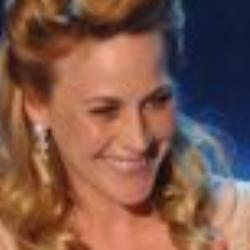face: (2, 1, 206, 223)
